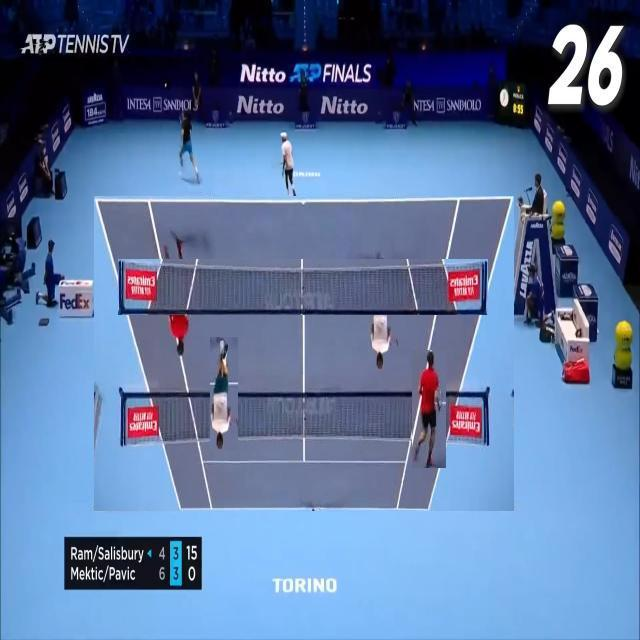court: (94, 196, 514, 511)
net: (119, 259, 488, 315)
player: (412, 350, 446, 468), (210, 337, 238, 450)
